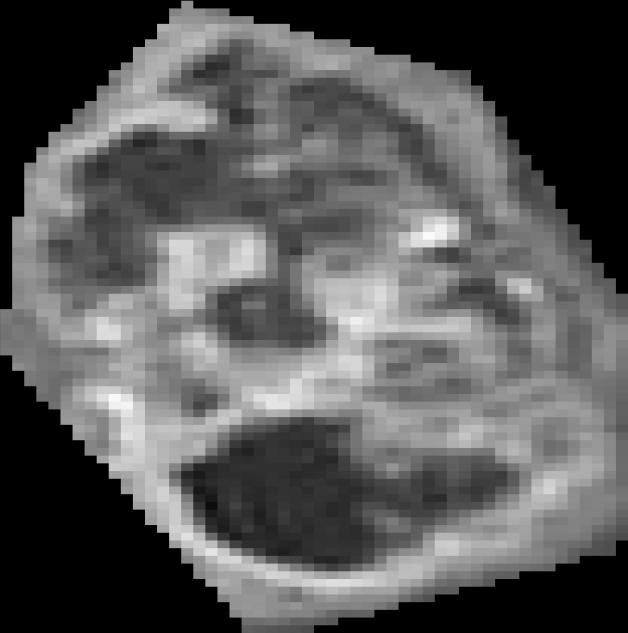tumor_good_chance: (0, 1, 628, 633)
